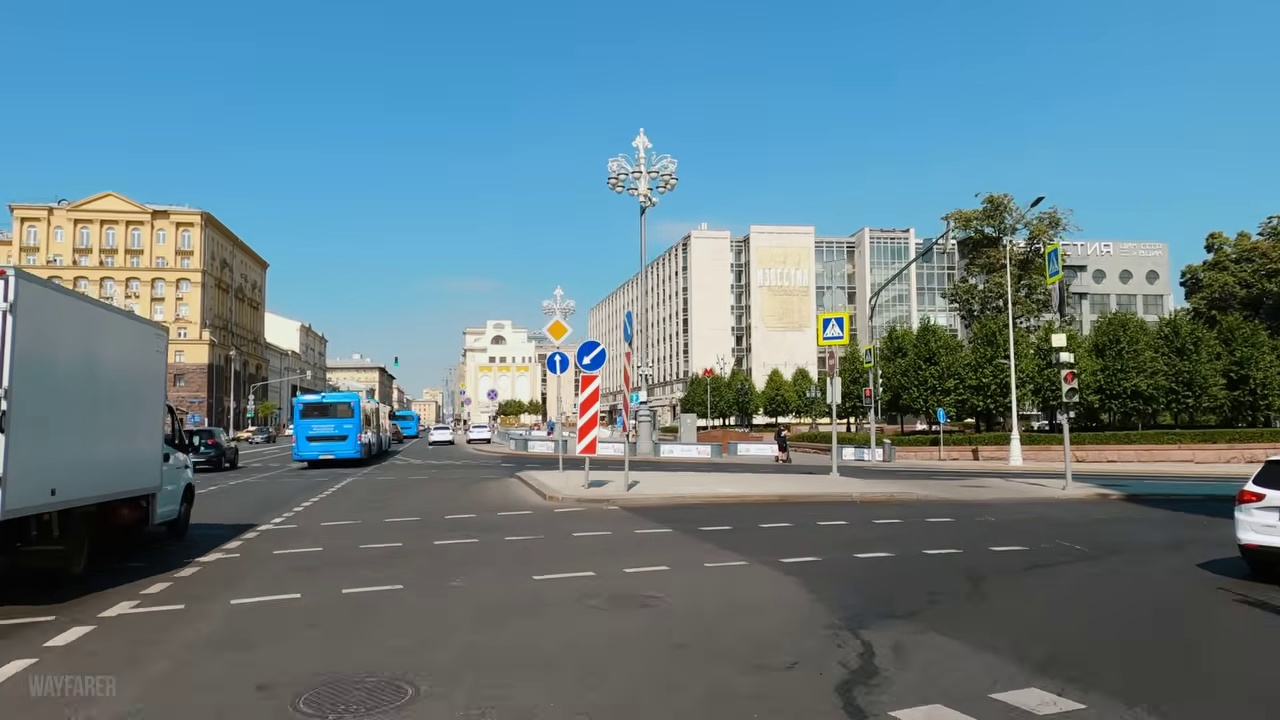apagada: (613, 129, 677, 215)
